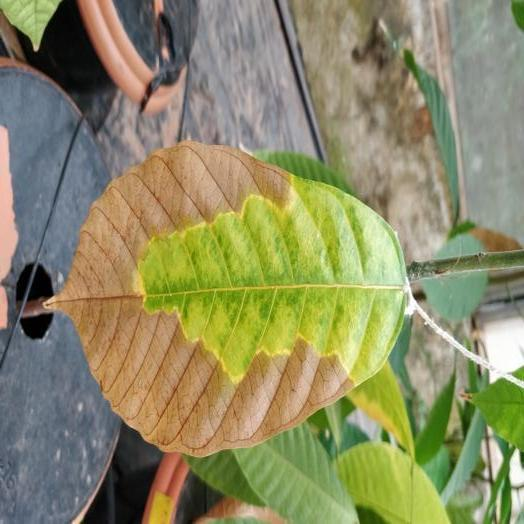Potassium: (46, 141, 408, 455)
